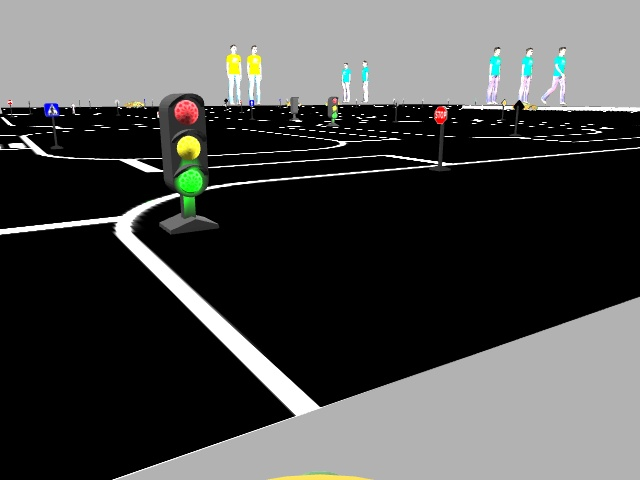Crosswalk: (44, 102, 57, 116)
Stop: (433, 105, 447, 123)
TrafficLight: (162, 90, 205, 193)
